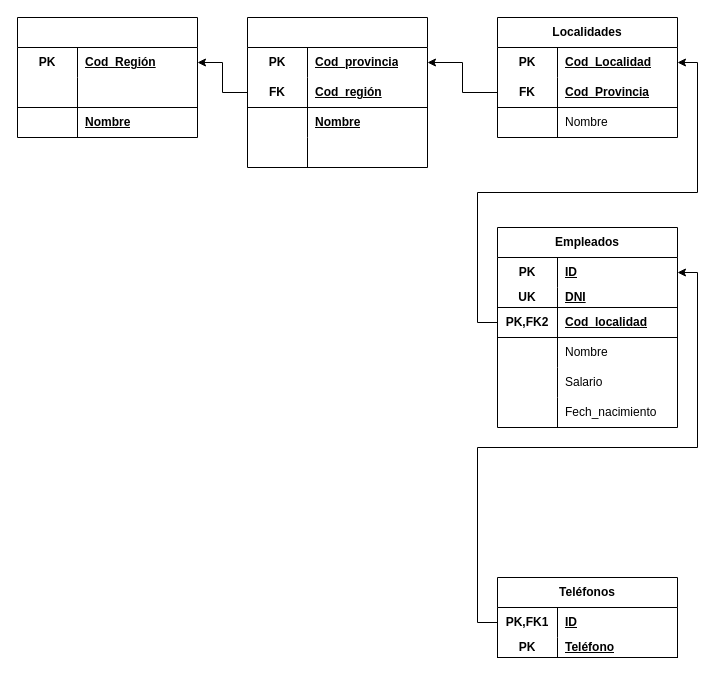
Image size: 723x675. Some labels were removed from this diagram. The shapes that lost their labels are listed below. From the top down, each one's box as (x1, y1, x2, y2) in pixels, then its label:
(16, 16, 198, 138): Regiones
(246, 16, 428, 168): Provincias
